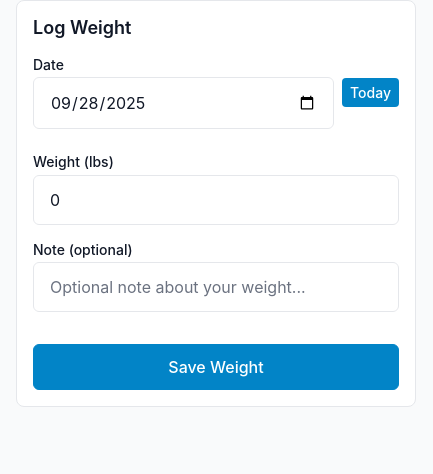
it: WeightLogger › shows weight preview when weight is entered
This screenshot has width=433, height=474.
Type "180.5" into the number field labelled "Weight (lbs)" at (216, 200), box [33,174,399,224]
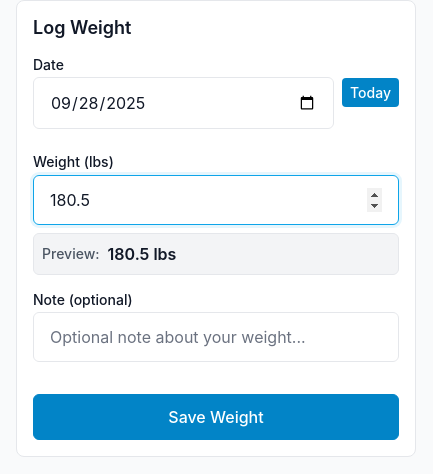
Result: the text "Preview:" is shown at [42,243,100,264]
Result: the text "180.5 lbs" is shown at [108,242,176,266]
